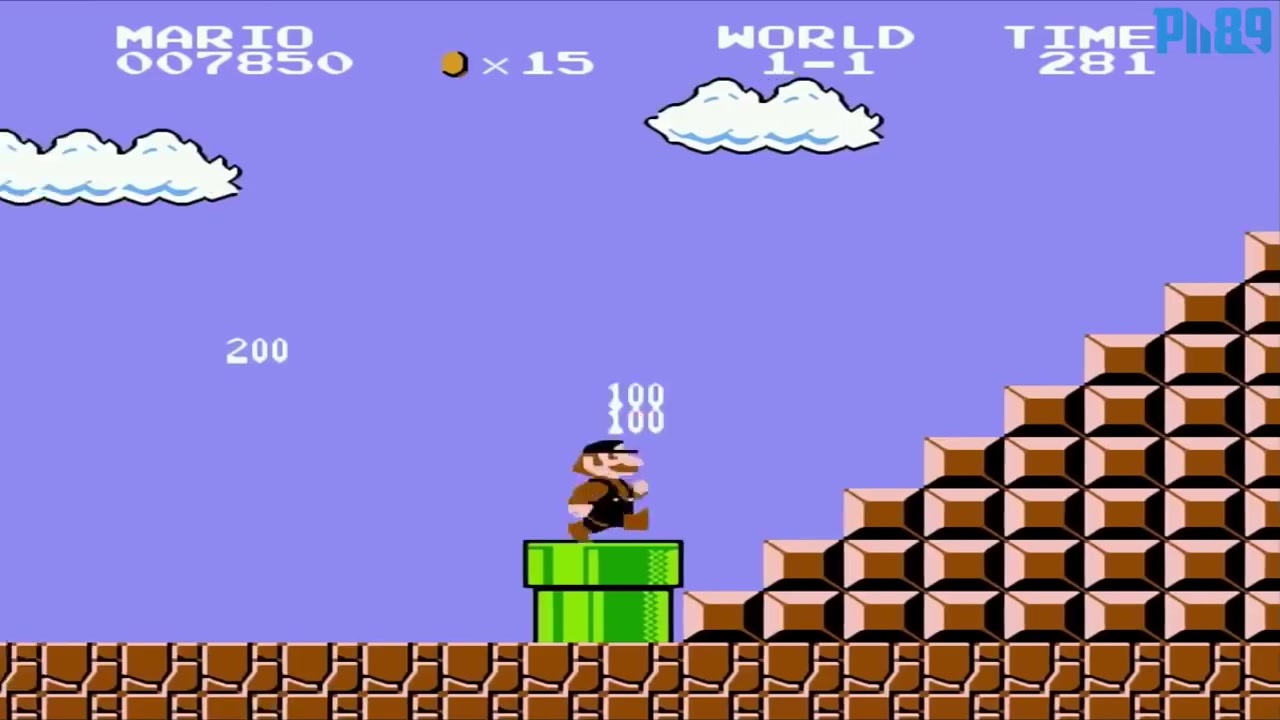mario: (549, 431, 666, 543)
